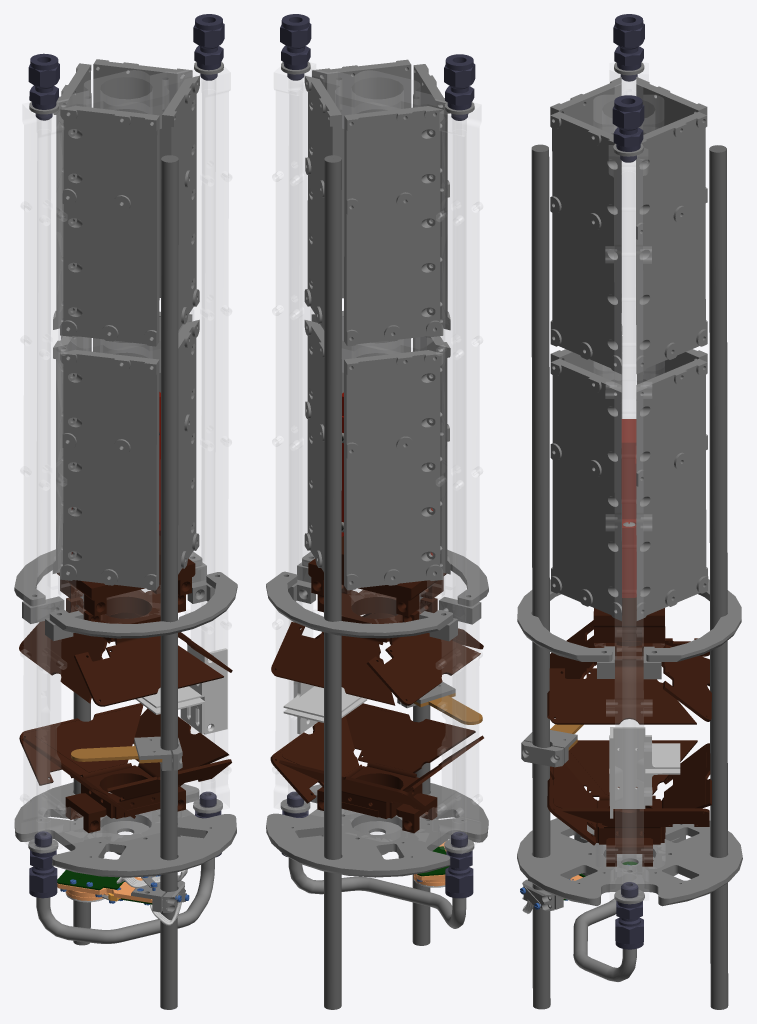
Rendered from wisard_for_G4_light3.obj.
3 renders of one model, left to right at view 1: azimuth 30°, elevation 25°; view 2: azimuth 150°, elevation 25°; view 3: azimuth 270°, elevation 25°, orthographic.
Parts seen in each view (by area): view 1: SOLID.006, PreAmp_holder.003, PreAmp_holder.002, _HPC_-_AWMP12-100, EndHolder, PreAmp_holderR.002, Support_v2.002, Support_v2.004, PreAmp_holderR.003, PreAmp_holder, Simple_guard_wheel, end_pipe (+25 smaller); view 2: SOLID.006, PreAmp_holderR, PreAmp_holderR.001, _HPC_-_AWMP12-100.001, EndHolder, Support_v2.006, PreAmp_holder, Support_v2, PreAmp_holderR.002, Support_v2.001, PreAmp_holder.001, Simple_guard_wheel.001 (+19 smaller); view 3: SOLID.006, PreAmp_holder.001, PreAmp_holderR.003, PreAmp_holder, PreAmp_holderR.002, _HPC_-_AWMP12-100.001, _HPC_-_AWMP12-100, EndHolder, Support_v2.003, Support_v2.005, SOLID.021, SiPM_Am_Cooler (+21 smaller).
Part boxes in pixels (left/top/right/bottom): SOLID.006: left=20, top=67, right=231, bottom=853; PreAmp_holder.003: left=60, top=349, right=159, bottom=590; PreAmp_holder.002: left=60, top=105, right=159, bottom=346; _HPC_-_AWMP12-100: left=160, top=155, right=178, bottom=1009; EndHolder: left=14, top=782, right=236, bottom=877; PreAmp_holderR.002: left=162, top=75, right=199, bottom=330; Support_v2.002: left=74, top=636, right=223, bottom=706; Support_v2.004: left=19, top=703, right=143, bottom=785; PreAmp_holderR.003: left=178, top=319, right=199, bottom=574; PreAmp_holder: left=93, top=59, right=192, bottom=297; Simple_guard_wheel: left=49, top=572, right=237, bottom=638; end_pipe: left=36, top=857, right=214, bottom=943; SOLID.006: left=272, top=63, right=482, bottom=853; PreAmp_holderR: left=344, top=106, right=443, bottom=346; PreAmp_holderR.001: left=344, top=350, right=443, bottom=590; _HPC_-_AWMP12-100.001: left=324, top=155, right=341, bottom=1009; EndHolder: left=266, top=783, right=488, bottom=877; Support_v2.006: left=346, top=703, right=475, bottom=778; PreAmp_holder: left=304, top=75, right=341, bottom=340; Support_v2: left=271, top=614, right=395, bottom=705; PreAmp_holderR.002: left=312, top=59, right=411, bottom=298; Support_v2.001: left=366, top=604, right=480, bottom=705; PreAmp_holder.001: left=304, top=320, right=341, bottom=571; Simple_guard_wheel.001: left=266, top=571, right=453, bottom=638; SOLID.006: left=594, top=63, right=664, bottom=900; PreAmp_holder.001: left=636, top=359, right=707, bottom=620; PreAmp_holderR.003: left=550, top=358, right=621, bottom=621; PreAmp_holder: left=636, top=112, right=707, bottom=373; PreAmp_holderR.002: left=550, top=112, right=621, bottom=374; _HPC_-_AWMP12-100.001: left=709, top=145, right=728, bottom=1009; _HPC_-_AWMP12-100: left=531, top=144, right=550, bottom=1009; EndHolder: left=517, top=818, right=742, bottom=906; Support_v2.003: left=549, top=665, right=696, bottom=724; Support_v2.005: left=562, top=808, right=709, bottom=844; SOLID.021: left=610, top=727, right=645, bottom=818; SiPM_Am_Cooler: left=621, top=419, right=636, bottom=597.
Bounding box in the file's own units: 0.1265 × 0.5867 × 0.127.
